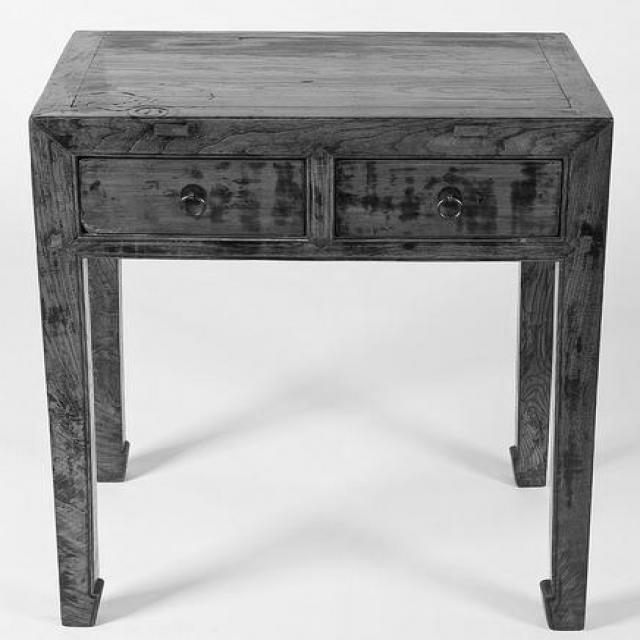table: (29, 29, 612, 633)
